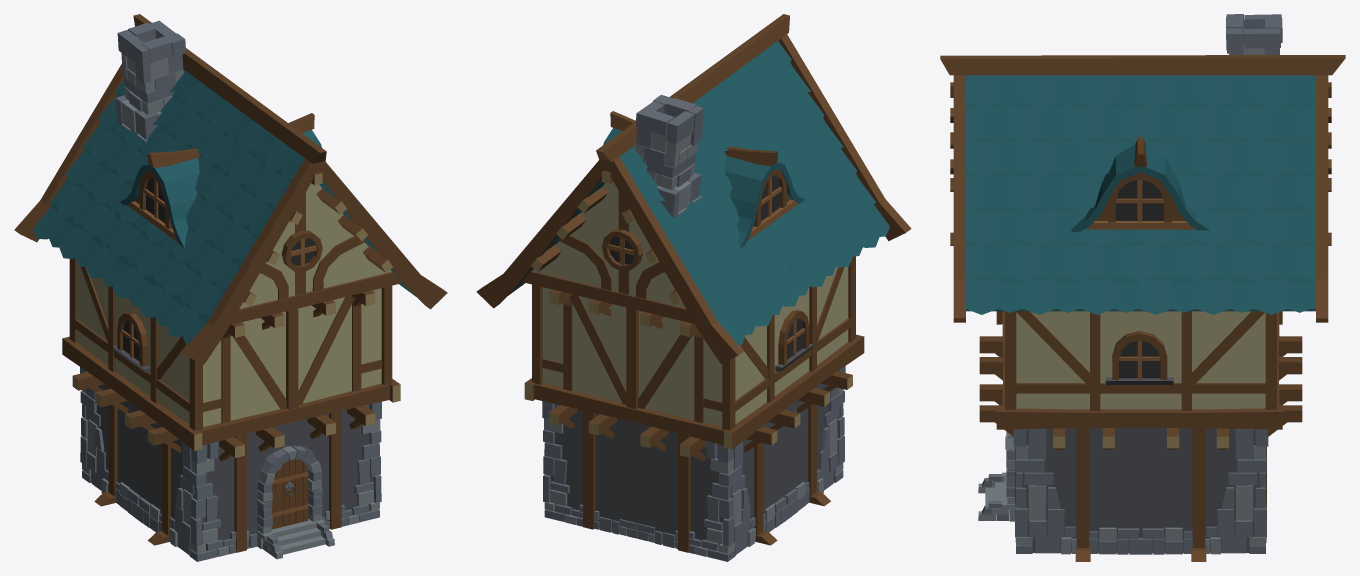
The model's file is tower.glb.
3 views of the same model, side by side, from view 1: azimuth 30°, elevation 25°; view 2: azimuth 150°, elevation 25°; view 3: azimuth 270°, elevation 25° (orthographic). The views are drawn at different scales.
Parts seen in each view (by area): view 1: House_1; view 2: House_1; view 3: House_1.
Boxes of the visible parts, bbox=[...] form: House_1: bbox=[14, 14, 447, 561]; House_1: bbox=[476, 14, 911, 561]; House_1: bbox=[940, 14, 1345, 561].
Bounding box in the file's own units: 2.14 × 3.39 × 2.66.
